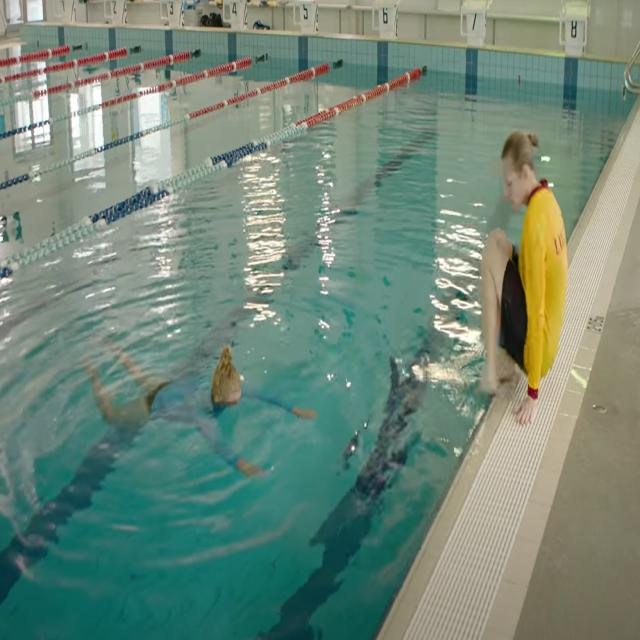Drowning: (89, 336, 318, 478)
